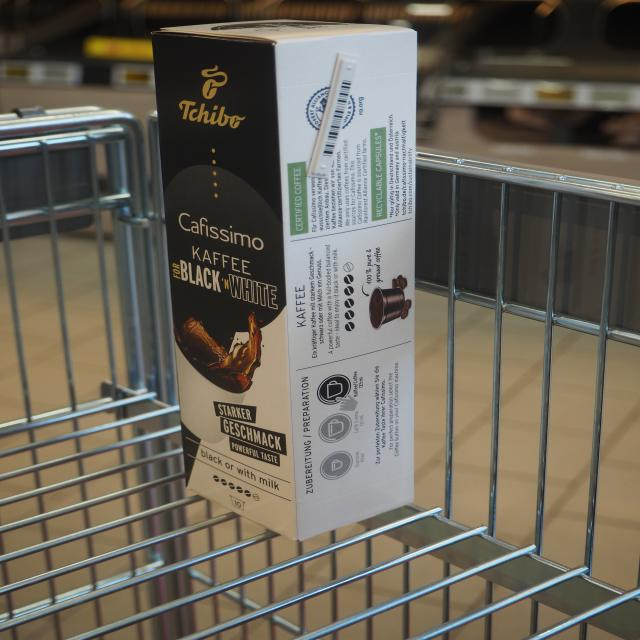Simo Kaffee BW: (143, 8, 424, 560)
